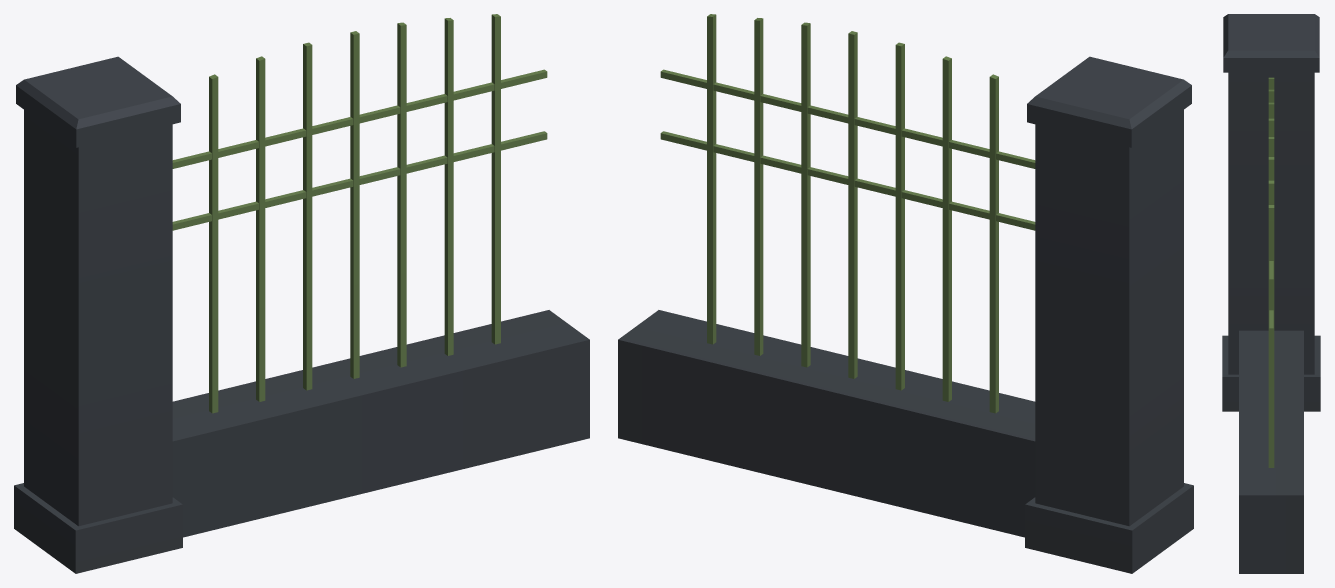
The model's file is Fence_08.fbx.
3 views of the same model, side by side, from view 1: azimuth 30°, elevation 25°; view 2: azimuth 150°, elevation 25°; view 3: azimuth 270°, elevation 25° (orthographic). The views are drawn at different scales.
Parts seen in each view (by area): view 1: Fence_08; view 2: Fence_08; view 3: Fence_08.
Part boxes in pixels (x1,y1,x2,y2): Fence_08: [14, 14, 589, 573]; Fence_08: [618, 14, 1193, 573]; Fence_08: [1222, 14, 1320, 573].
Size of the model in its own units: 2.23 by 1.83 by 0.4543.
